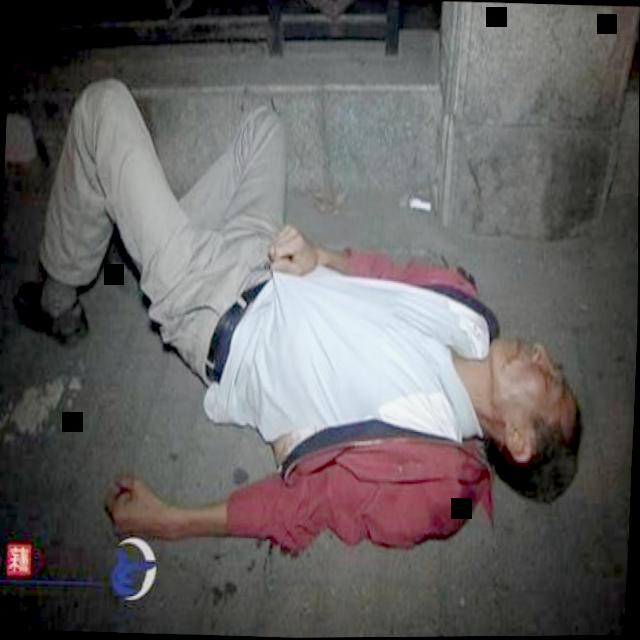Fall-Detected: (46, 57, 630, 589)
